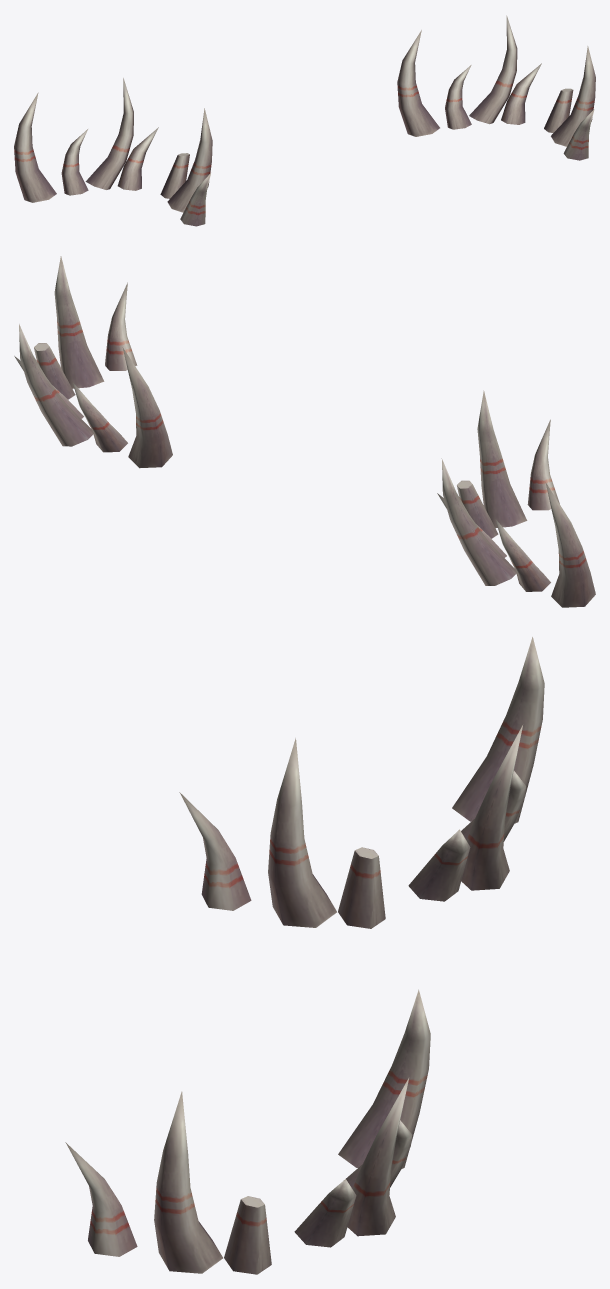
The model's file is area_06_19.fbx.
The picture shows the model from 3 angles, top to bottom: view 1: azimuth 30°, elevation 25°; view 2: azimuth 150°, elevation 25°; view 3: azimuth 270°, elevation 25°; orthographic projection. The views are drawn at different scales.
Parts seen in each view (by area): view 1: area_06_19; view 2: area_06_19; view 3: area_06_19.
Boxes of the visible parts, <box> form: area_06_19: <box>14,15,595,226</box>; area_06_19: <box>14,256,595,607</box>; area_06_19: <box>65,637,544,1274</box>.
Size of the model in its own units: 38.99 by 7.65 by 16.42.
